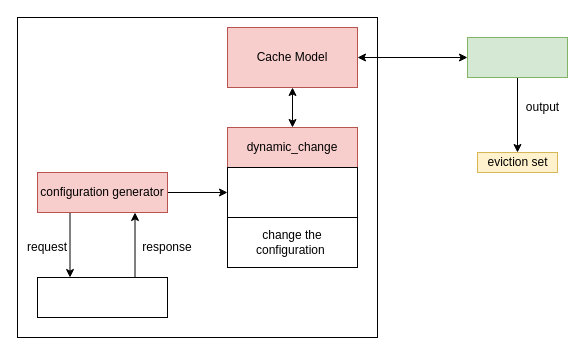
This 585x355 diagram has some shape labels left out. Each missing label, with the box of its shape:
Attacker: (466, 36, 568, 78)
candle the data already in cache: (226, 166, 358, 218)
parameter pools: (36, 276, 168, 318)
